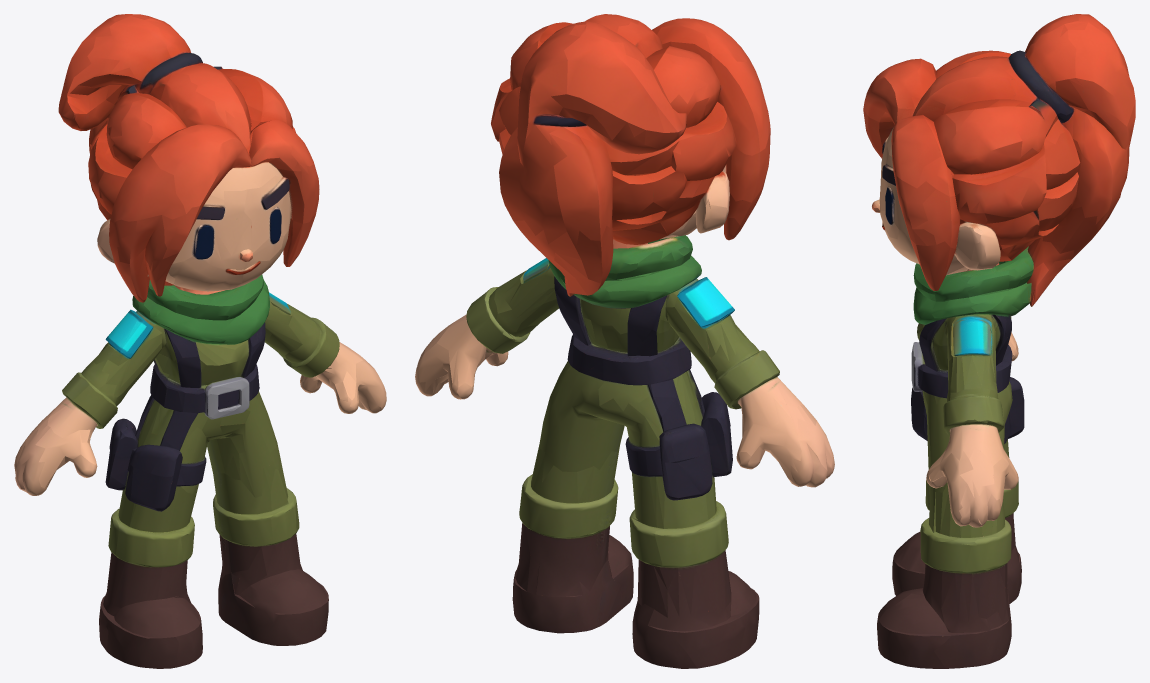
Rendered from lynx_reduziert_statisch.glb.
3 views of the same model, side by side, from view 1: azimuth 30°, elevation 25°; view 2: azimuth 150°, elevation 25°; view 3: azimuth 270°, elevation 25° (orthographic). The views are drawn at different scales.
Visible parts, largest first — view 1: output_unwrapped; view 2: output_unwrapped; view 3: output_unwrapped.
Part boxes in pixels (left/top/right/bottom): output_unwrapped: left=14, top=14, right=386, bottom=668; output_unwrapped: left=415, top=14, right=834, bottom=668; output_unwrapped: left=863, top=14, right=1135, bottom=668.
Bounding box in the file's own units: 1.25 × 1.9 × 0.7962.
1 material, 1 textured.
